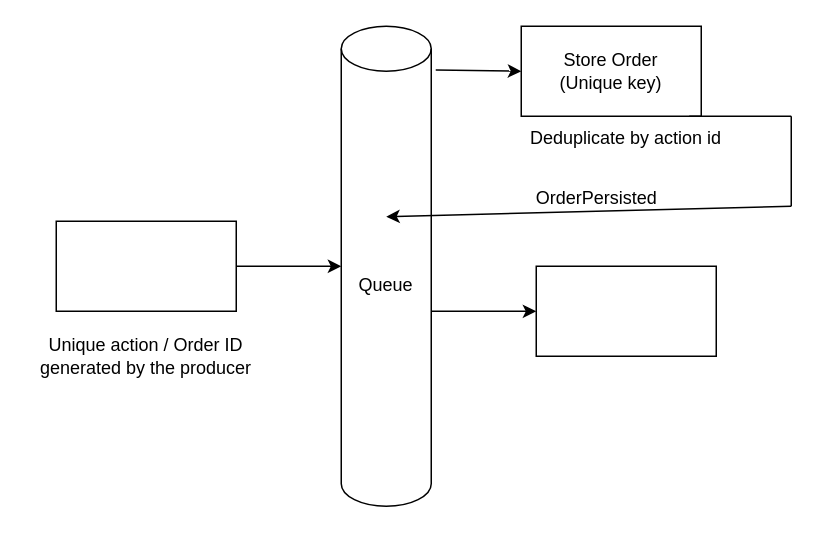
This 830x533 diagram has some shape labels left out. The shapes that lost their labels are listed below. From the top down, each one's box as (x1, y1, x2, y2) in pixels, then its label:
(55, 220, 236, 311): Producer
(535, 265, 716, 356): Other consumers.....
